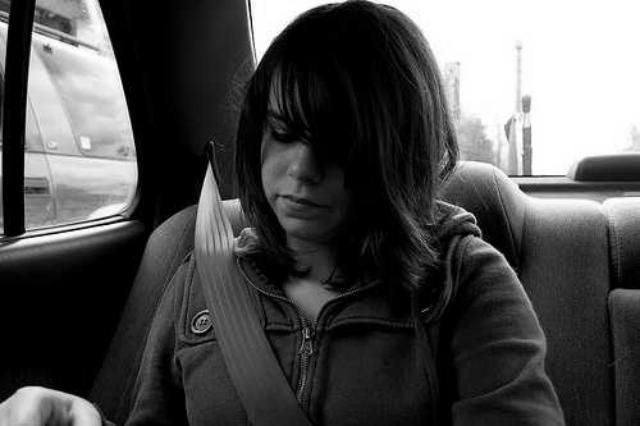Seatbelt: (189, 154, 317, 426)
